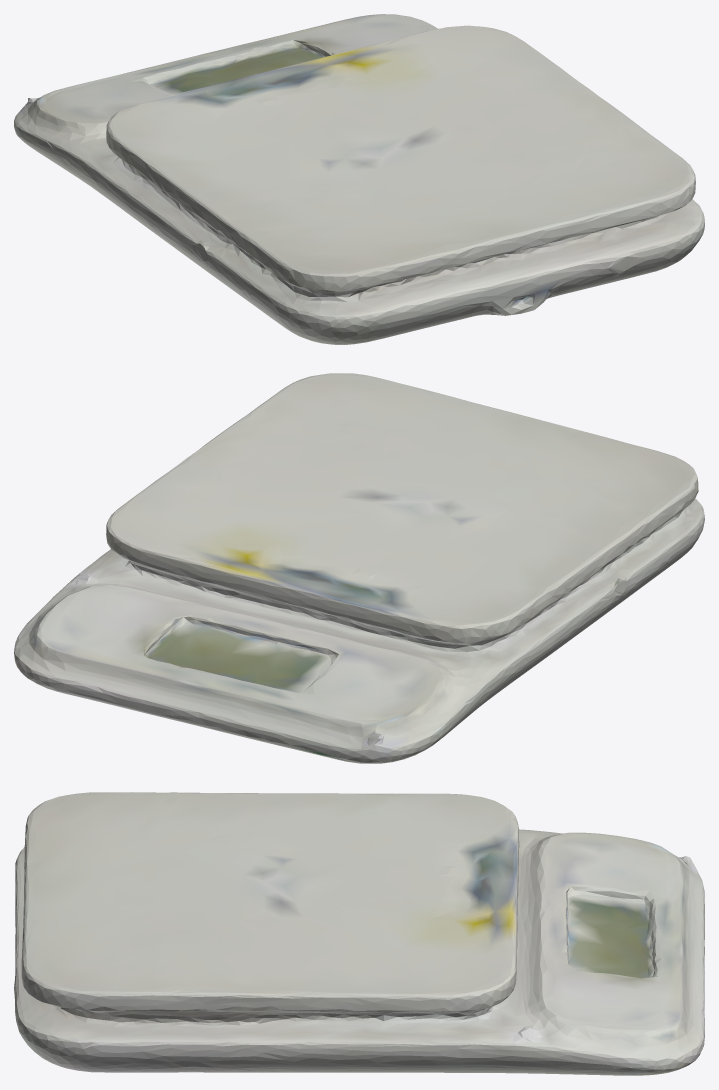
3 renders of one model, top to bottom at view 1: azimuth 30°, elevation 25°; view 2: azimuth 150°, elevation 25°; view 3: azimuth 270°, elevation 25°, orthographic. The views are drawn at different scales.
Parts seen in each view (by area): view 1: scan.ply; view 2: scan.ply; view 3: scan.ply.
Part boxes in pixels (x1,y1,x2,y2): scan.ply: (14,14,704,344); scan.ply: (14,373,704,763); scan.ply: (14,792,704,1075).
Bounding box in the file's own units: 0.1484 × 0.0314 × 0.2007.
